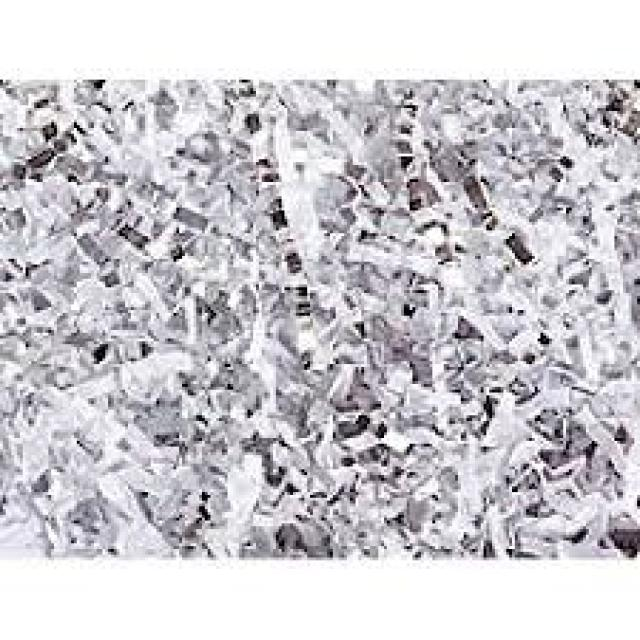paper: (0, 77, 637, 557)
